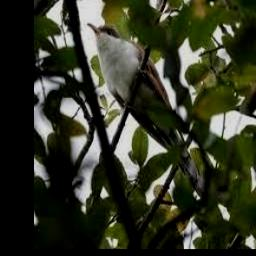Cuckoo: (88, 22, 207, 196)
